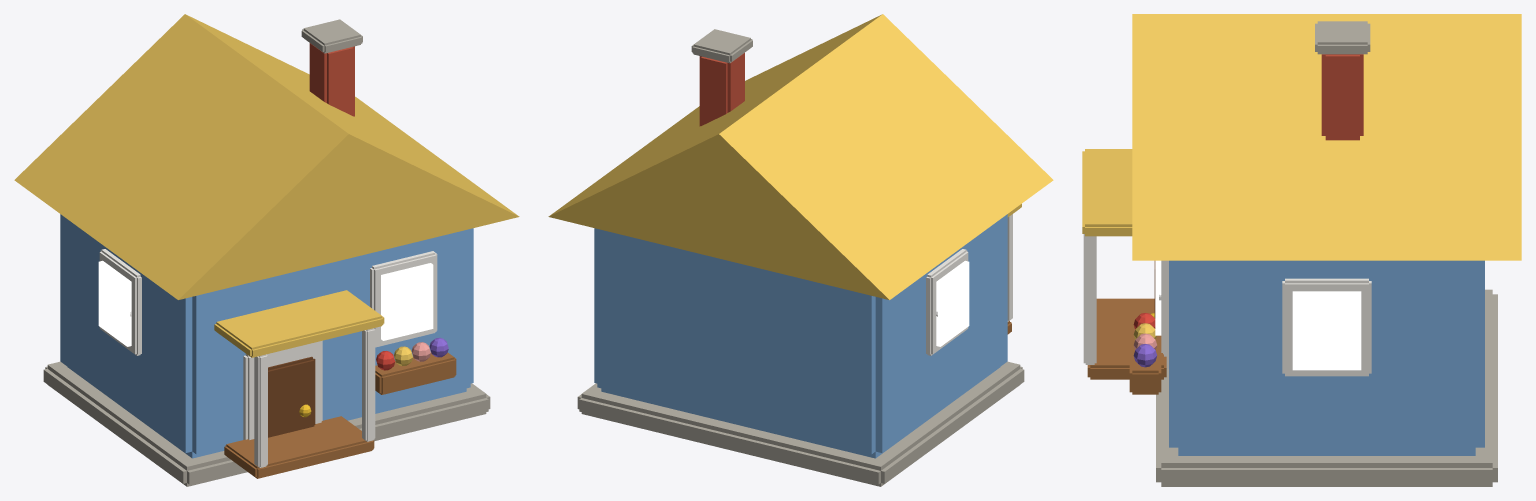
File: house_blue.glb
The picture shows the model from 3 angles, left to right: view 1: azimuth 30°, elevation 25°; view 2: azimuth 150°, elevation 25°; view 3: azimuth 270°, elevation 25°; orthographic projection. The views are drawn at different scales.
Parts seen in each view (by area): view 1: house_blue; view 2: house_blue; view 3: house_blue.
Boxes of the visible parts, x1,y1,x2,y2 form: house_blue: (14, 14, 519, 486); house_blue: (548, 14, 1053, 486); house_blue: (1082, 14, 1521, 486).
Bounding box in the file's own units: 1.78 × 1.72 × 1.67.
